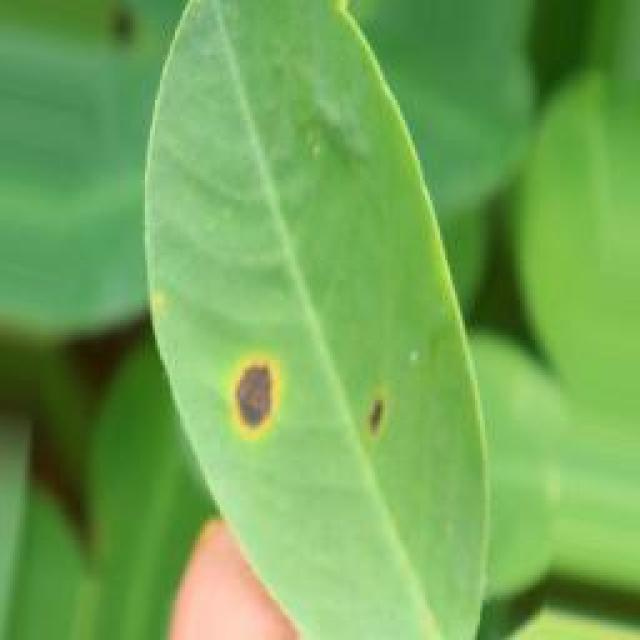Sigatoka: (213, 349, 310, 446), (352, 380, 410, 448), (144, 285, 170, 321)
